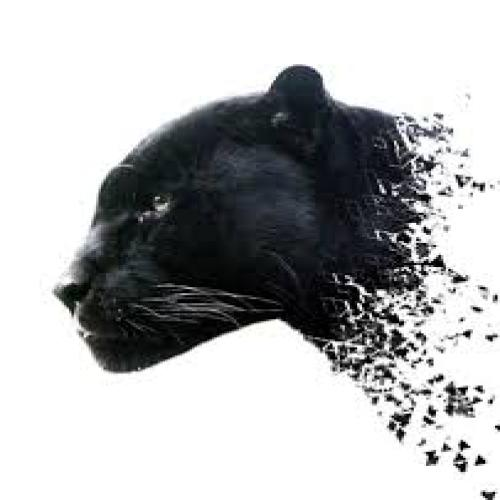panther-endangered: (55, 61, 366, 378)
